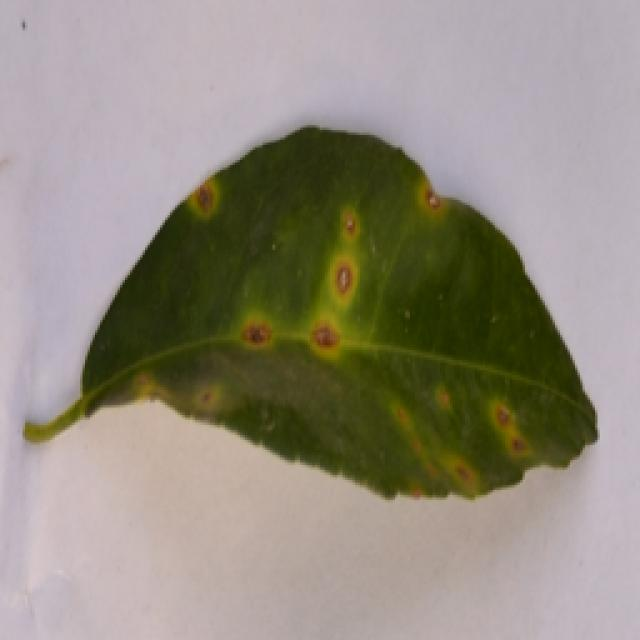canker: (92, 125, 594, 511)
